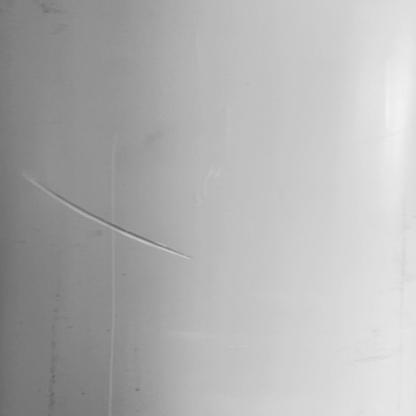sunshang: (23, 173, 191, 258)
